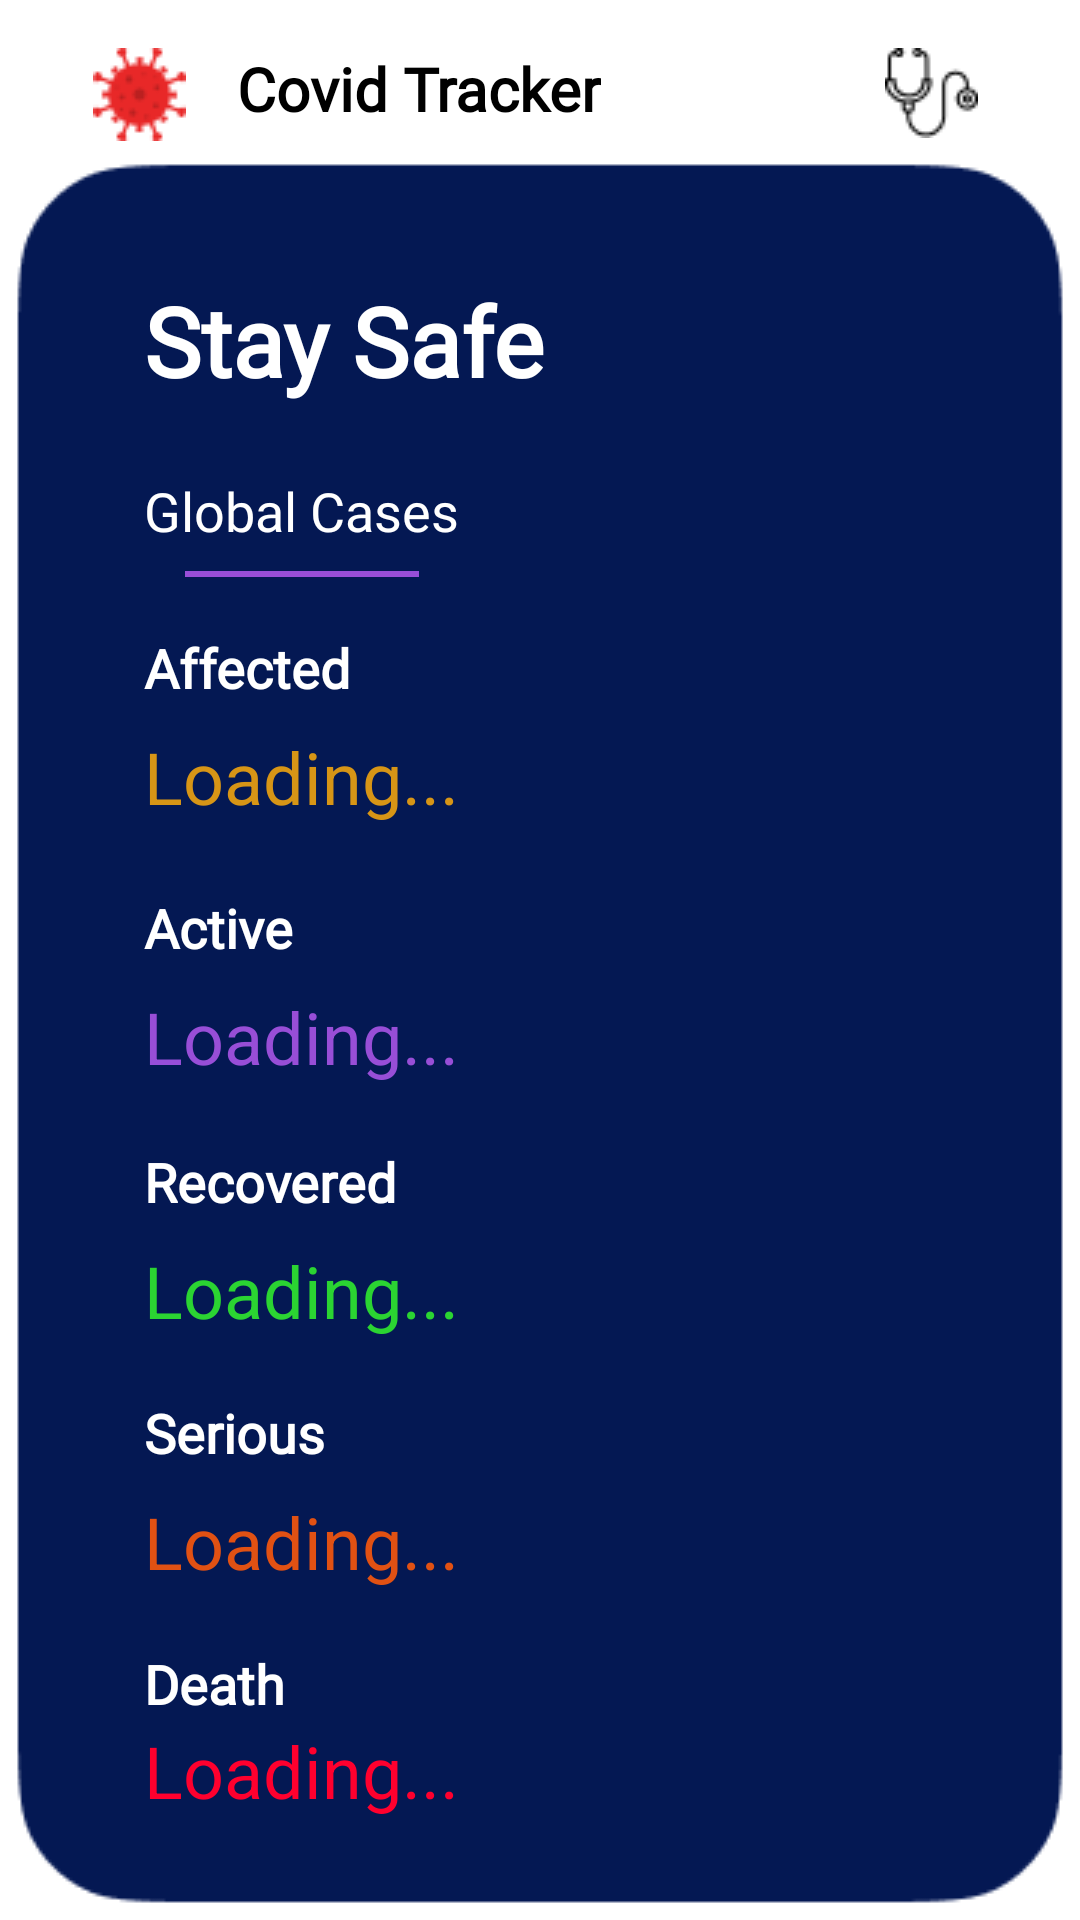

Icon click points for this 1080*1920 phone screenshot, format (x,y):
covidimg: (139,94)
